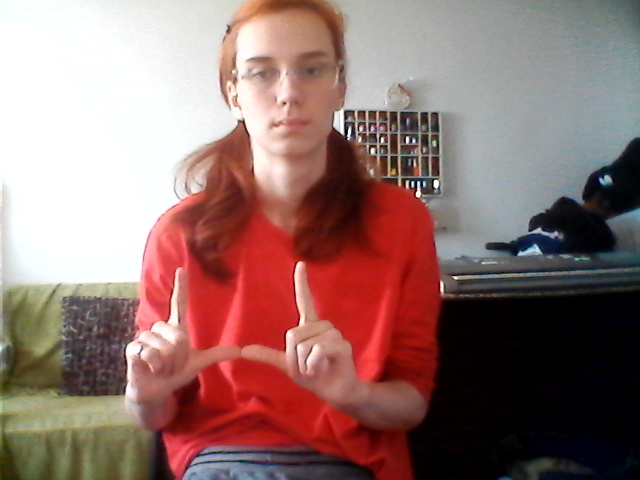u: (105, 257, 380, 416)
